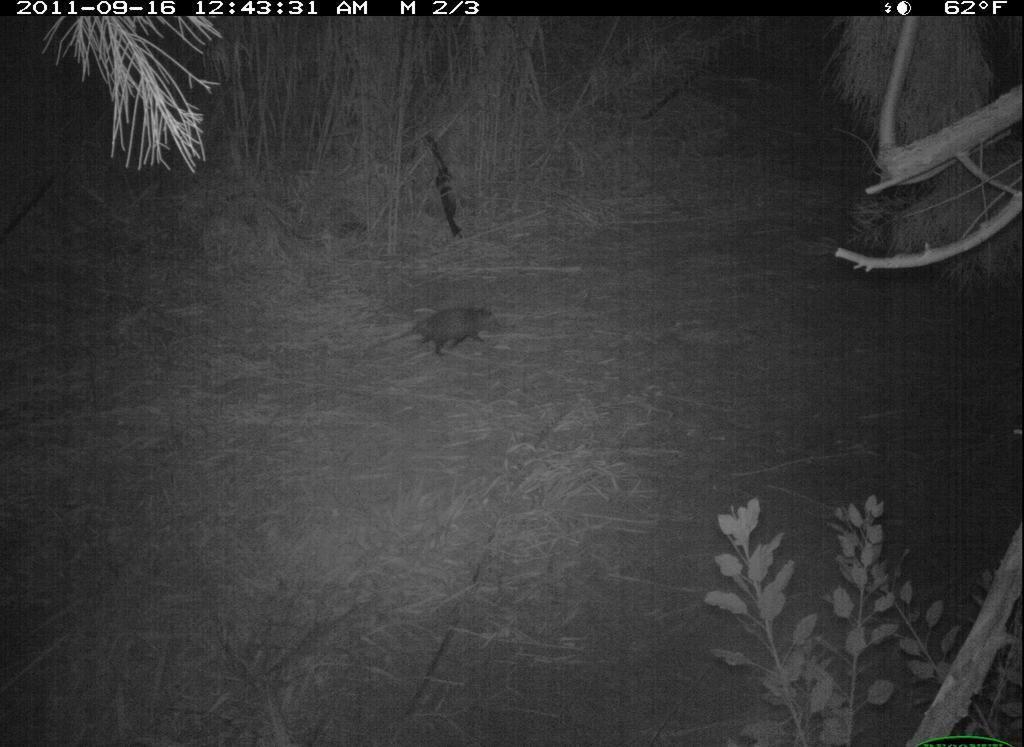opossum: (364, 303, 507, 370)
